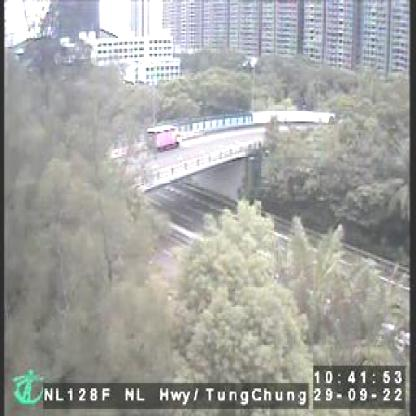Truck: (144, 120, 181, 152)
